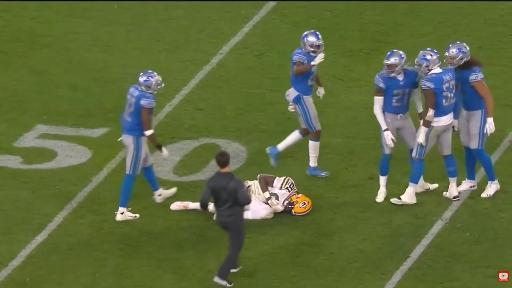Helmet: (415, 48, 441, 75), (444, 42, 470, 66), (301, 30, 324, 55), (138, 71, 164, 93), (384, 50, 406, 76), (286, 194, 311, 215)
Jersey: (375, 69, 418, 114), (420, 68, 455, 119), (121, 86, 155, 136), (456, 67, 484, 111), (291, 48, 316, 95), (268, 177, 297, 205)
Player: (391, 49, 459, 204), (266, 31, 329, 177), (116, 71, 176, 221), (445, 42, 499, 197), (374, 50, 422, 202), (244, 175, 311, 219)
